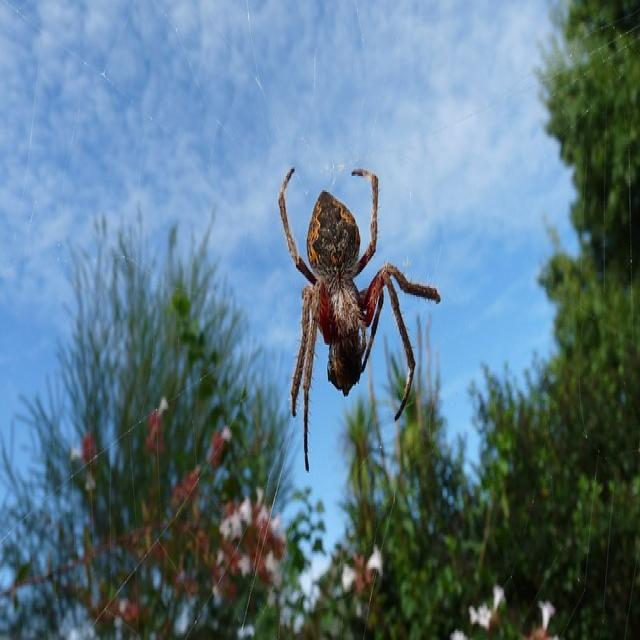spyder: (278, 167, 440, 473)
